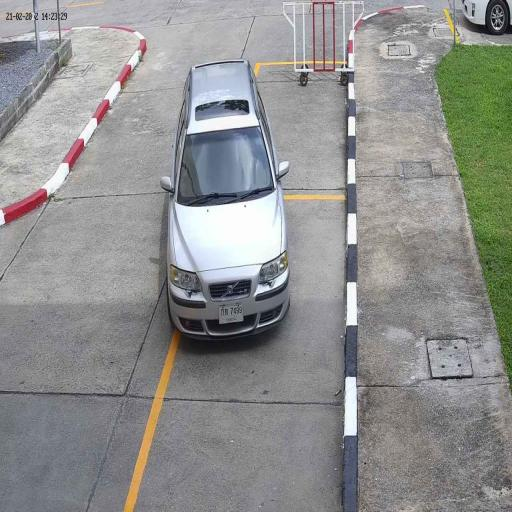car: (164, 58, 292, 346)
